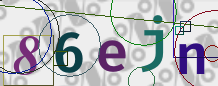6: (55, 31, 84, 74)
8: (13, 35, 41, 76)
e: (97, 39, 128, 73)
j: (141, 12, 164, 73)
n: (178, 42, 205, 76)
